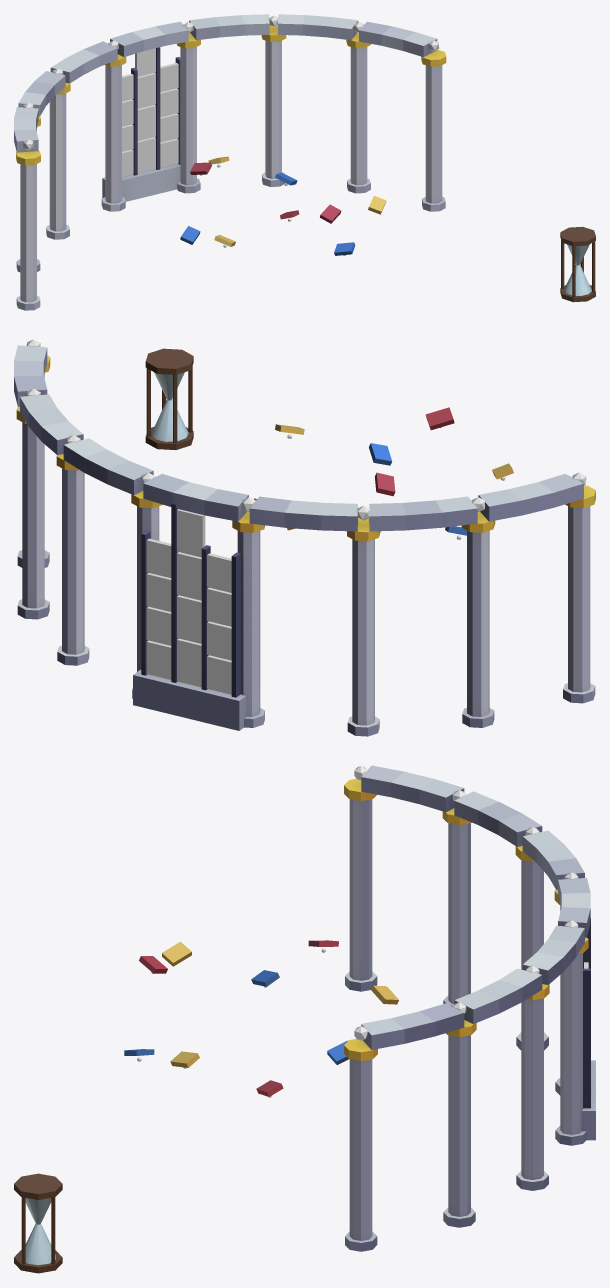
Rendered from area_library_4_5.fbx.
3 views of the same model, one above another, from view 1: azimuth 30°, elevation 25°; view 2: azimuth 150°, elevation 25°; view 3: azimuth 270°, elevation 25° (orthographic). The views are drawn at different scales.
Visible parts, largest first — view 1: area_library_4_5_body, area_library_4_5_body3_glow, area_library_4_5_body4_glow, area_library_4_5_body5_glow, area_library_4_5_body2_glow, area_library_4_5_body_glow; view 2: area_library_4_5_body, area_library_4_5_body3_glow, area_library_4_5_body4_glow, area_library_4_5_body5_glow, area_library_4_5_body2_glow, area_library_4_5_body_glow; view 3: area_library_4_5_body, area_library_4_5_body3_glow.
Part boxes in pixels (x1=…): area_library_4_5_body: x1=14, y1=14, x2=595, y2=310; area_library_4_5_body3_glow: x1=23, y1=15, x2=439, y2=255; area_library_4_5_body4_glow: x1=122, y1=73, x2=178, y2=142; area_library_4_5_body5_glow: x1=135, y1=48, x2=178, y2=117; area_library_4_5_body2_glow: x1=122, y1=124, x2=155, y2=172; area_library_4_5_body_glow: x1=122, y1=63, x2=178, y2=176; area_library_4_5_body: x1=14, y1=345, x2=595, y2=736; area_library_4_5_body3_glow: x1=26, y1=339, x2=586, y2=679; area_library_4_5_body4_glow: x1=146, y1=552, x2=231, y2=645; area_library_4_5_body5_glow: x1=146, y1=509, x2=205, y2=611; area_library_4_5_body2_glow: x1=177, y1=621, x2=231, y2=686; area_library_4_5_body_glow: x1=146, y1=538, x2=231, y2=694; area_library_4_5_body: x1=14, y1=765, x2=595, y2=1273; area_library_4_5_body3_glow: x1=137, y1=766, x2=578, y2=1097.
Bounding box in the file's own units: 10633 × 3800 × 8975.
Materials: 2 (1 with a texture image).
